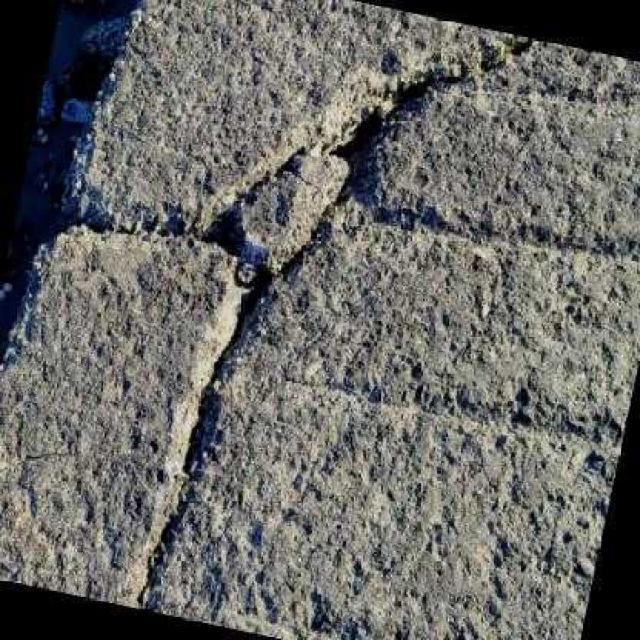D00: (59, 36, 544, 610)
